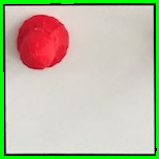Red Pawn: (13, 12, 72, 72)
